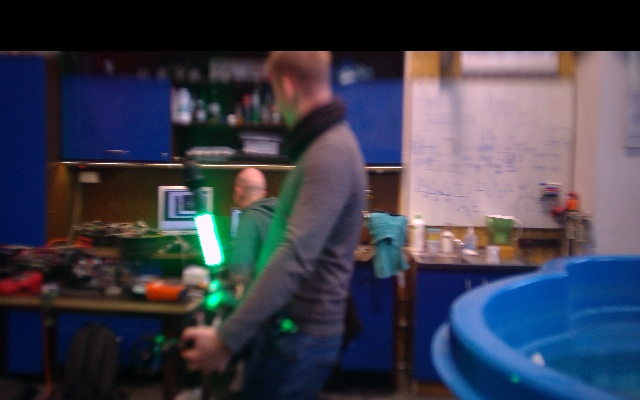green: (194, 213, 224, 268)
